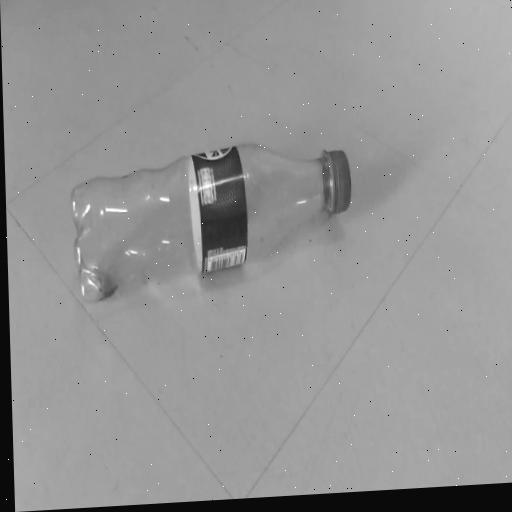bottle: (52, 123, 379, 324)
